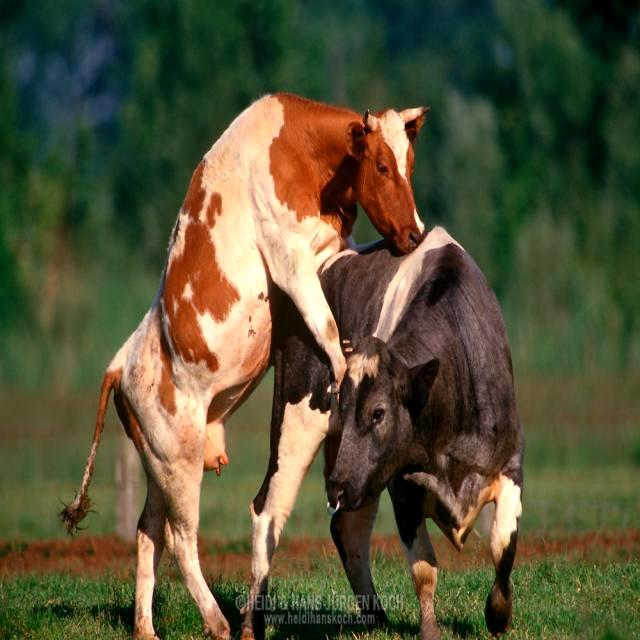COW: (62, 94, 424, 640), (241, 228, 524, 640)
